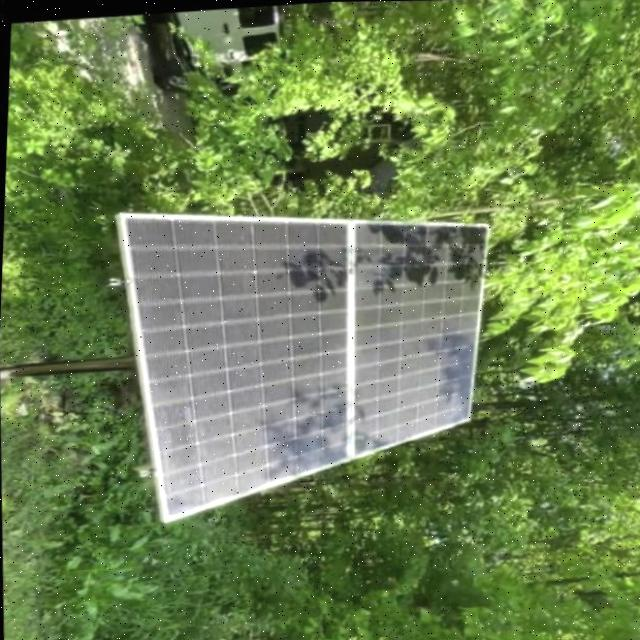Normal Solar Panel: (107, 202, 359, 524), (340, 216, 498, 458)
